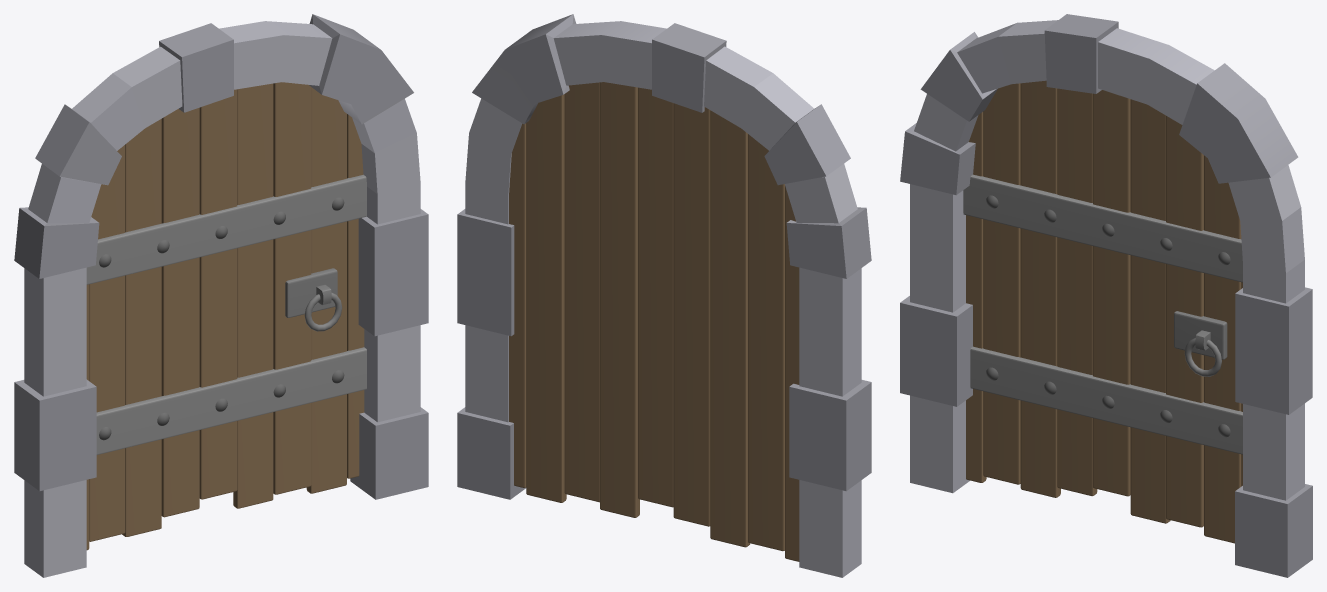
File: mainRoom_door.fbx
3 views of the same model, side by side, from view 1: azimuth 30°, elevation 25°; view 2: azimuth 150°, elevation 25°; view 3: azimuth 330°, elevation 25° (orthographic).
Parts seen in each view (by area): view 1: door; view 2: door; view 3: door.
Boxes of the visible parts, x1=… form: door: x1=14, y1=14, x2=428, y2=577; door: x1=457, y1=14, x2=871, y2=577; door: x1=900, y1=14, x2=1312, y2=577.
Bounding box in the file's own units: 48.22 × 58.36 × 5.97.
